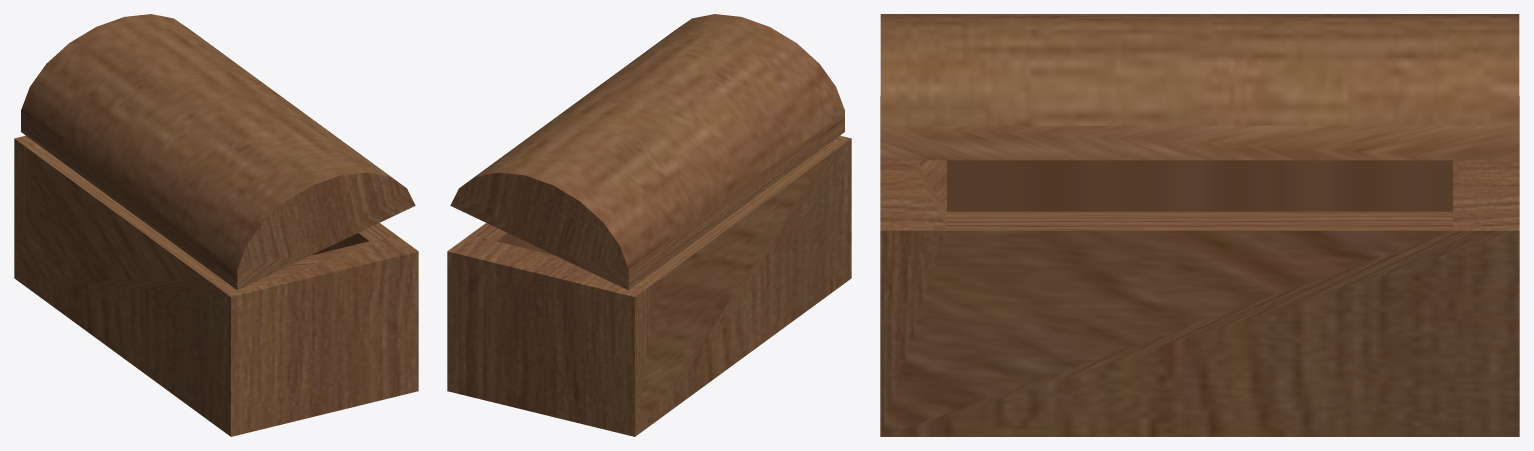
Rendered from treasurechest.fbx.
3 renders of one model, left to right at view 1: azimuth 30°, elevation 25°; view 2: azimuth 150°, elevation 25°; view 3: azimuth 270°, elevation 25°, orthographic. The views are drawn at different scales.
Parts seen in each view (by area): view 1: pCube1, pCylinder3; view 2: pCube1, pCylinder3; view 3: pCube1, pCylinder3.
Boxes of the visible parts, x1,y1,x2,y2 form: pCube1: (14, 135, 418, 436); pCylinder3: (21, 14, 415, 290); pCube1: (447, 135, 851, 436); pCylinder3: (450, 14, 844, 290); pCube1: (880, 96, 1519, 436); pCylinder3: (880, 14, 1519, 160).
Bounding box in the file's own units: 6.74 × 8.06 × 13.49.
1 material, 1 textured.
